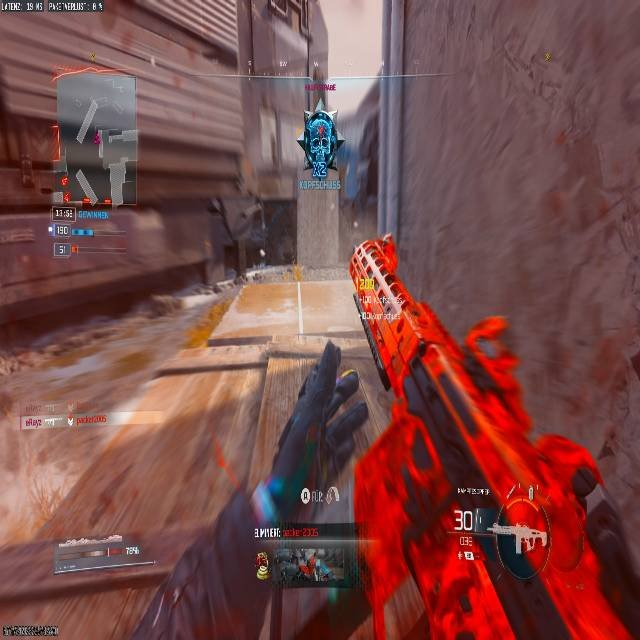player: (298, 99, 339, 173)
